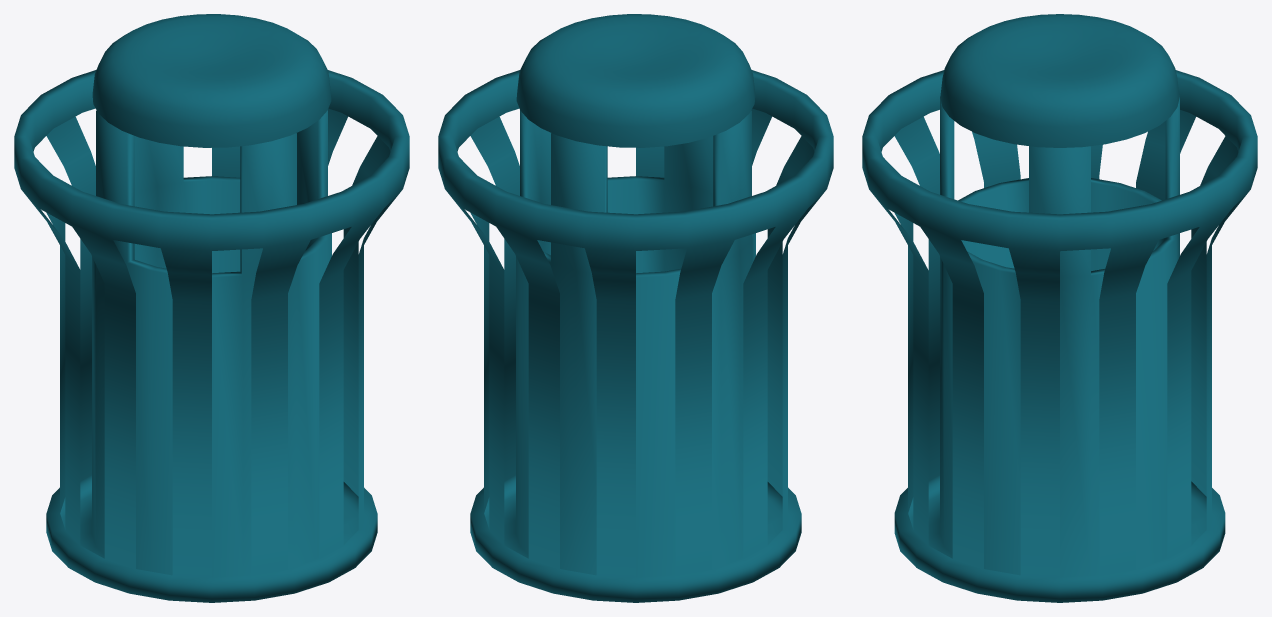
Rendered from TrashCan.fbx.
The picture shows the model from 3 angles, left to right: view 1: azimuth 30°, elevation 25°; view 2: azimuth 150°, elevation 25°; view 3: azimuth 270°, elevation 25°; orthographic projection.
Parts seen in each view (by area): view 1: TrashCan; view 2: TrashCan; view 3: TrashCan.
Boxes of the visible parts, x1,y1,x2,y2 form: TrashCan: (14,14,409,602); TrashCan: (438,14,833,602); TrashCan: (862,14,1257,602).
Size of the model in its own units: 15.41 by 20.65 by 15.41.
